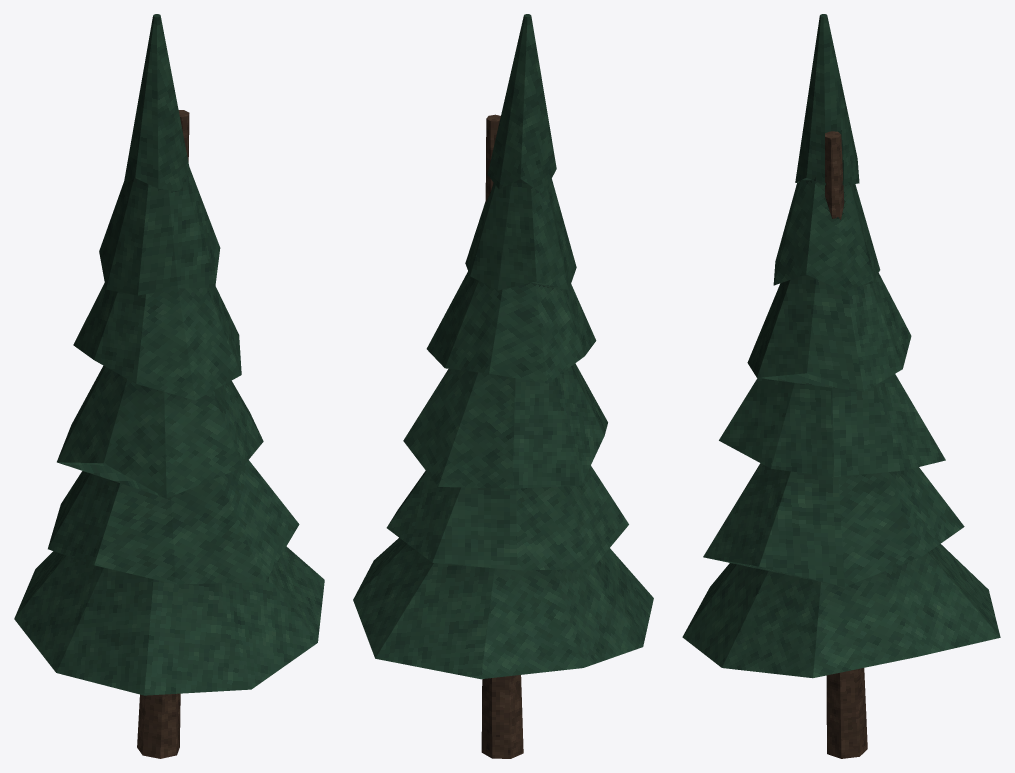
File: snow_pine_a.glb
3 renders of one model, left to right at view 1: azimuth 30°, elevation 25°; view 2: azimuth 150°, elevation 25°; view 3: azimuth 270°, elevation 25°, orthographic. The views are drawn at different scales.
Parts seen in each view (by area): view 1: snow_pine_a; view 2: snow_pine_a; view 3: snow_pine_a.
Part boxes in pixels (box(x1,y1,x2,y2)): snow_pine_a: box(14, 14, 324, 758); snow_pine_a: box(353, 14, 653, 758); snow_pine_a: box(682, 14, 1000, 758).
Bounding box in the file's own units: 3.39 × 8.9 × 3.52.
2 materials, 2 textured.
